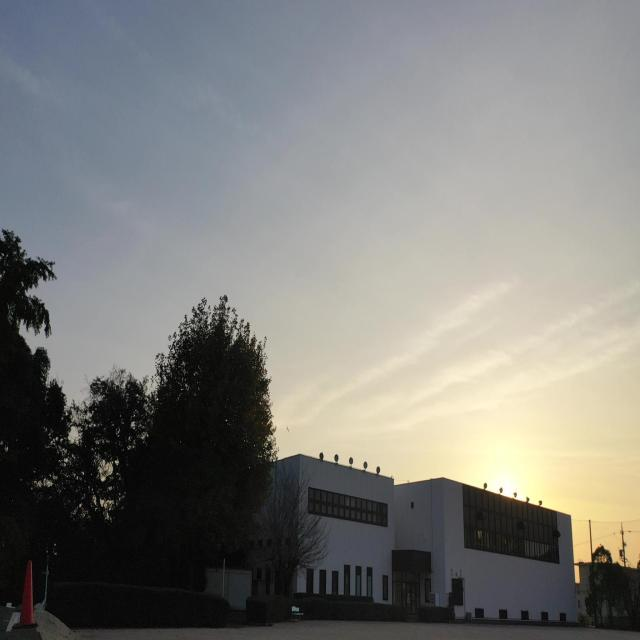Birds: (285, 424, 290, 432)
